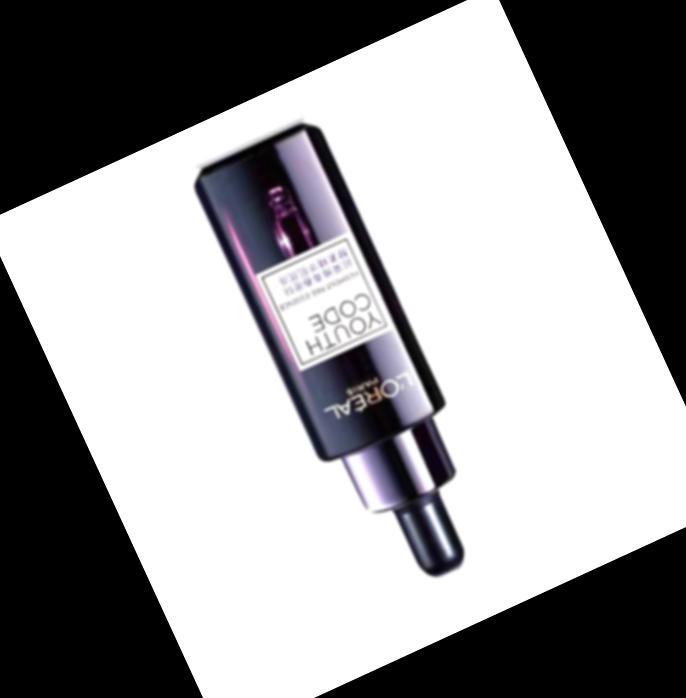cosmetic: (191, 118, 509, 601)
